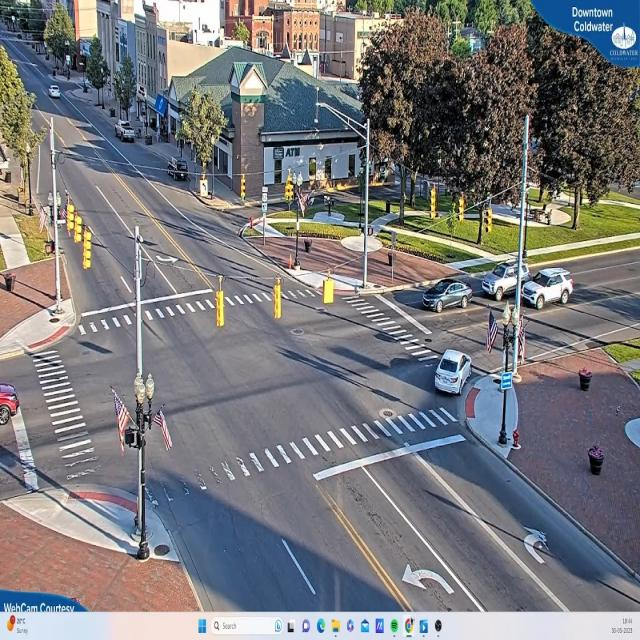car: (516, 269, 572, 311), (480, 264, 538, 304), (434, 351, 472, 397), (421, 280, 472, 312), (1, 384, 22, 424), (117, 122, 137, 144), (49, 87, 61, 99)
